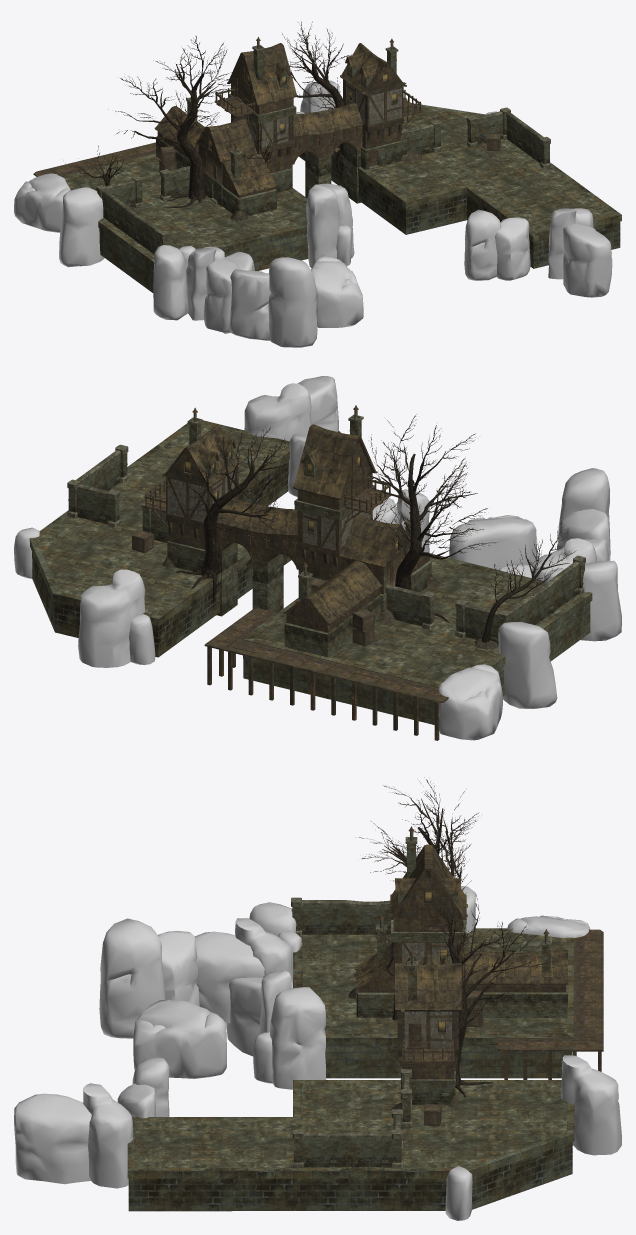
Rendered from medievalApplied.fbx.
3 renders of one model, top to bottom at view 1: azimuth 30°, elevation 25°; view 2: azimuth 150°, elevation 25°; view 3: azimuth 270°, elevation 25°, orthographic. The views are drawn at different scales.
Visible parts, largest first — view 1: floor_2, house2, house1, bridge1, rock7, rock5_1, rock3_1, rock8, sidebuild, rock9, rock8_1, rock3 (+23 smaller); view 2: floor_2, house2, dock, bridge1, house1, sidebuild2_1, rock2_1, rock3_1, rock8_1, rock8, rock2_2, rock3 (+23 smaller); view 3: floor_2, house1, house2, rock5_1, rock7, rock8, sidebuild2_1, dock, rock4, rock2_1, rock2_2, rock5 (+17 smaller).
Boxes of the visible parts, x1,y1,x2,y2 form: floor_2: [61, 103, 621, 292]; house2: [195, 43, 297, 206]; house1: [340, 43, 406, 169]; bridge1: [291, 103, 363, 203]; rock7: [268, 257, 317, 347]; rock5_1: [563, 223, 612, 297]; rock3_1: [59, 187, 104, 267]; rock8: [311, 256, 363, 327]; sidebuild: [222, 154, 277, 216]; rock9: [230, 269, 270, 340]; rock8_1: [14, 173, 70, 232]; rock3: [153, 245, 188, 320]; floor_2: [29, 420, 592, 724]; house2: [293, 424, 412, 611]; dock: [204, 608, 448, 740]; bridge1: [216, 498, 300, 616]; house1: [162, 424, 242, 571]; sidebuild2_1: [283, 560, 382, 657]; rock2_1: [78, 569, 145, 667]; rock3_1: [498, 622, 557, 708]; rock8_1: [438, 664, 502, 740]; rock8: [449, 515, 537, 569]; rock2_2: [244, 383, 311, 441]; rock3: [580, 560, 621, 641]; floor_2: [127, 928, 574, 1211]; house1: [395, 963, 461, 1104]; house2: [388, 844, 467, 1014]; rock5_1: [14, 1093, 91, 1184]; rock7: [99, 918, 165, 1038]; rock8: [133, 999, 226, 1078]; sidebuild2_1: [463, 949, 568, 1017]; dock: [497, 929, 603, 1079]; rock4: [270, 987, 326, 1089]; rock2_1: [561, 1055, 621, 1155]; rock2_2: [83, 1083, 133, 1188]; rock5: [194, 931, 264, 1023].
Size of what is drawn, in the model's own units: 5168 by 2602 by 4899.
